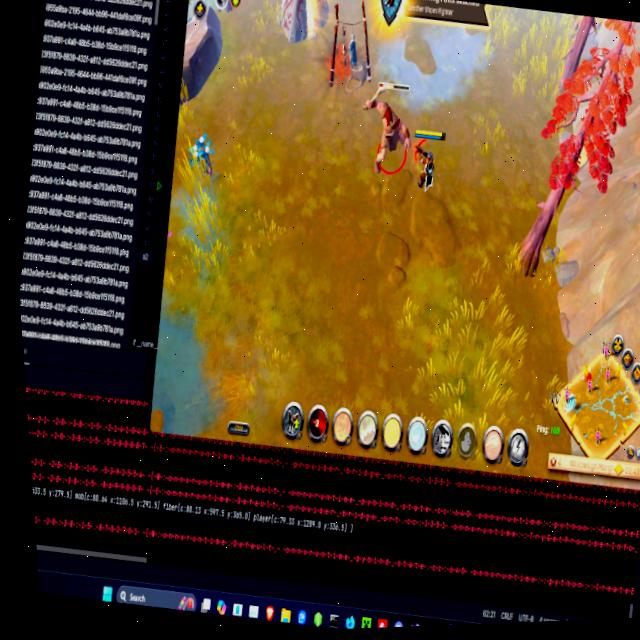hide: (183, 130, 222, 186)
ore: (349, 64, 430, 188)
red: (404, 122, 454, 198)
wisp caged: (487, 5, 640, 299), (550, 12, 610, 108)
